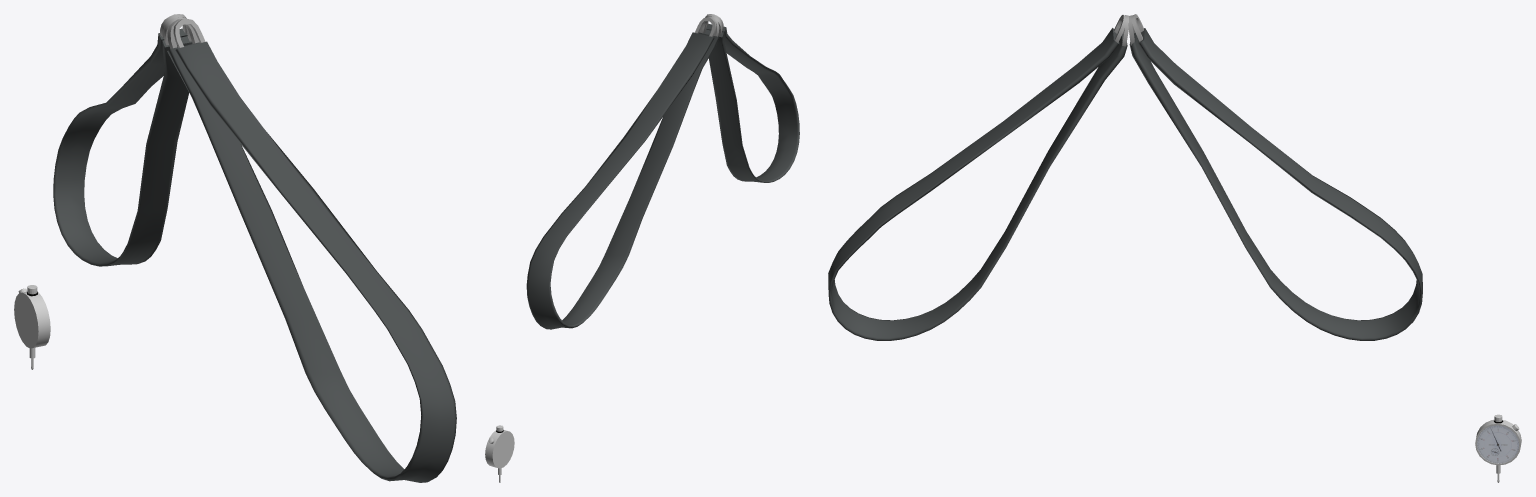
File: dialGauge_rope_housing.fbx
3 renders of one model, left to right at view 1: azimuth 30°, elevation 25°; view 2: azimuth 150°, elevation 25°; view 3: azimuth 270°, elevation 25°, orthographic. The views are drawn at different scales.
Parts seen in each view (by area): view 1: rope_f, rope_b, DialGage; view 2: rope_b, rope_f, DialGage; view 3: rope_f, rope_b, DialGage.
Part boxes in pixels (left/top/right/bottom): rope_f: left=167, top=41, right=456, bottom=482; rope_b: left=53, top=28, right=192, bottom=266; DialGage: left=14, top=285, right=50, bottom=369; rope_b: left=526, top=32, right=719, bottom=329; rope_f: left=703, top=24, right=799, bottom=182; DialGage: left=485, top=425, right=514, bottom=482; rope_f: left=828, top=28, right=1127, bottom=340; rope_b: left=1129, top=28, right=1422, bottom=340; DialGage: left=1475, top=414, right=1521, bottom=482.
Size of the model in its own units: 13.77 by 65.59 by 94.7.
5 materials, 1 textured.
